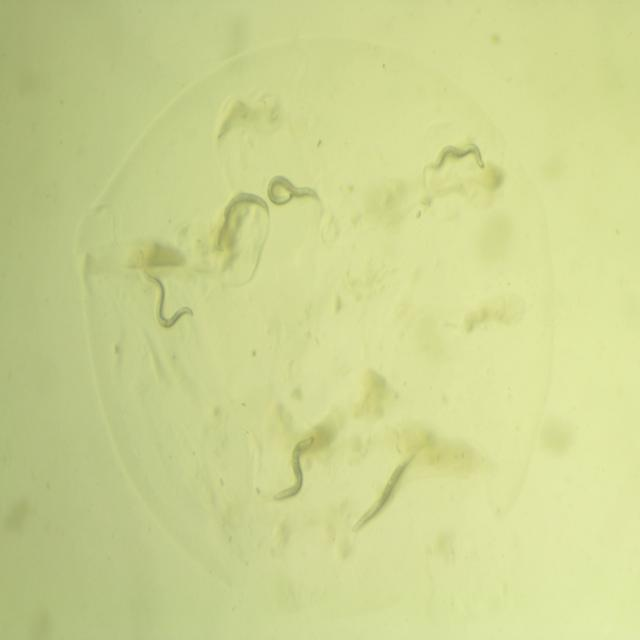worm: (345, 441, 421, 541), (263, 425, 326, 508), (137, 260, 201, 340), (210, 186, 272, 260), (425, 132, 493, 184), (262, 170, 328, 218)
